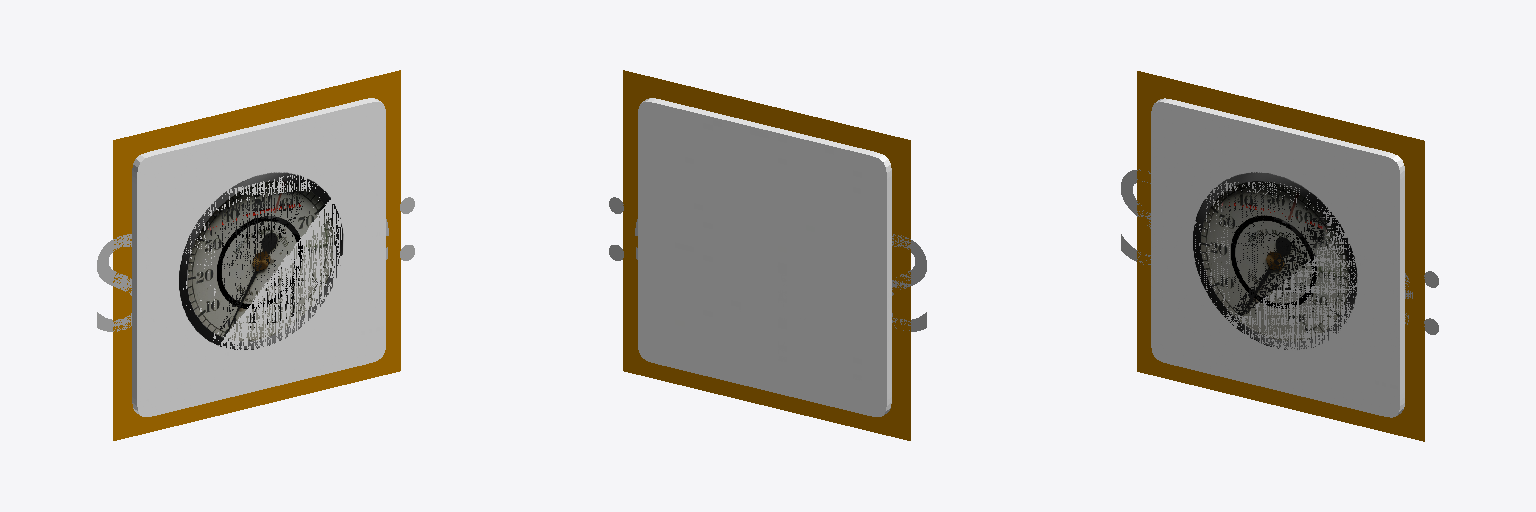
3 renders of one model, left to right at view 1: azimuth 30°, elevation 25°; view 2: azimuth 150°, elevation 25°; view 3: azimuth 330°, elevation 25°, orthographic.
Visible parts, largest first — view 1: CardThermometer, Plane, CardTank, Score; view 2: CardThermometer, Plane, CardTank, Score; view 3: CardThermometer, Plane, CardTank, Score.
Part boxes in pixels (bbox=[...]): CardThermometer: bbox=[132, 98, 385, 416]; Plane: bbox=[113, 70, 400, 440]; CardTank: bbox=[132, 126, 385, 412]; Score: bbox=[97, 197, 414, 331]; CardThermometer: bbox=[638, 98, 891, 416]; Plane: bbox=[623, 70, 910, 440]; CardTank: bbox=[638, 130, 890, 394]; Score: bbox=[609, 197, 926, 331]; CardThermometer: bbox=[1151, 98, 1404, 417]; Plane: bbox=[1137, 71, 1424, 441]; CardTank: bbox=[1151, 131, 1404, 394]; Score: bbox=[1121, 169, 1438, 334].
Size of the model in its own units: 1.28 by 1.16 by 0.0702.
8 materials, 6 textured.